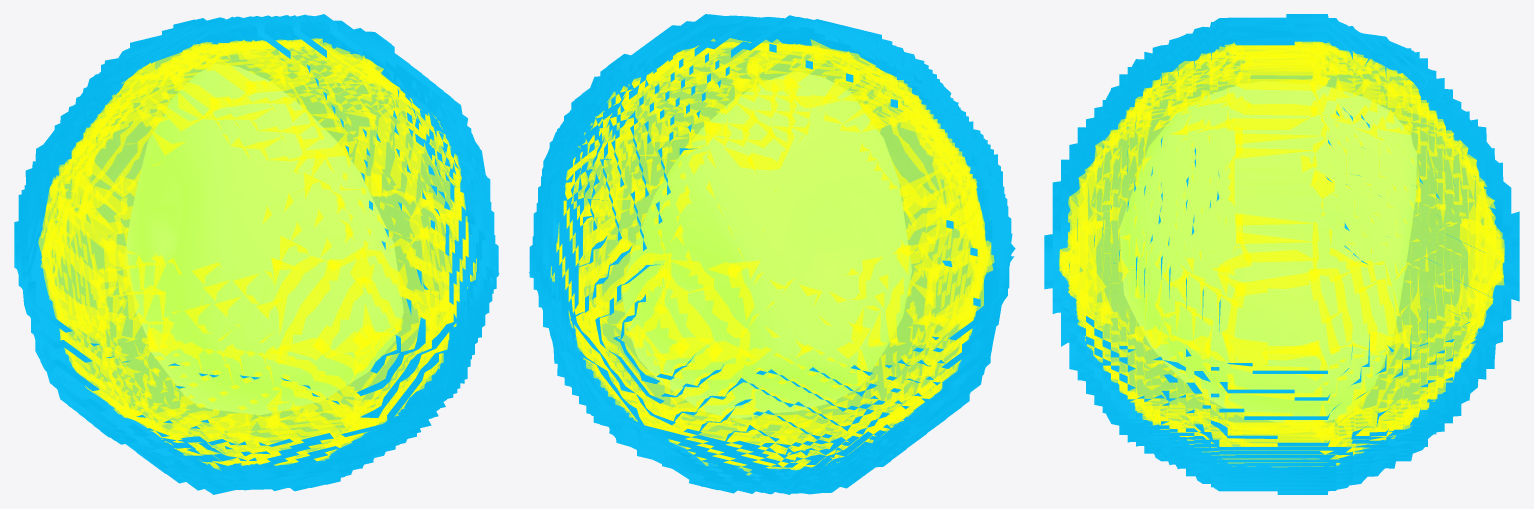
The model's file is eviction.glb.
3 renders of one model, left to right at view 1: azimuth 30°, elevation 25°; view 2: azimuth 150°, elevation 25°; view 3: azimuth 270°, elevation 25°, orthographic.
Visible parts, largest first — view 1: eviction.001; view 2: eviction.001; view 3: eviction.001.
Boxes of the visible parts, box(x1,y1,x2,y2) form: eviction.001: box(14, 14, 499, 494); eviction.001: box(529, 14, 1015, 494); eviction.001: box(1044, 14, 1519, 494).
Bounding box in the file's own units: 0.8962 × 0.8962 × 0.8962.
